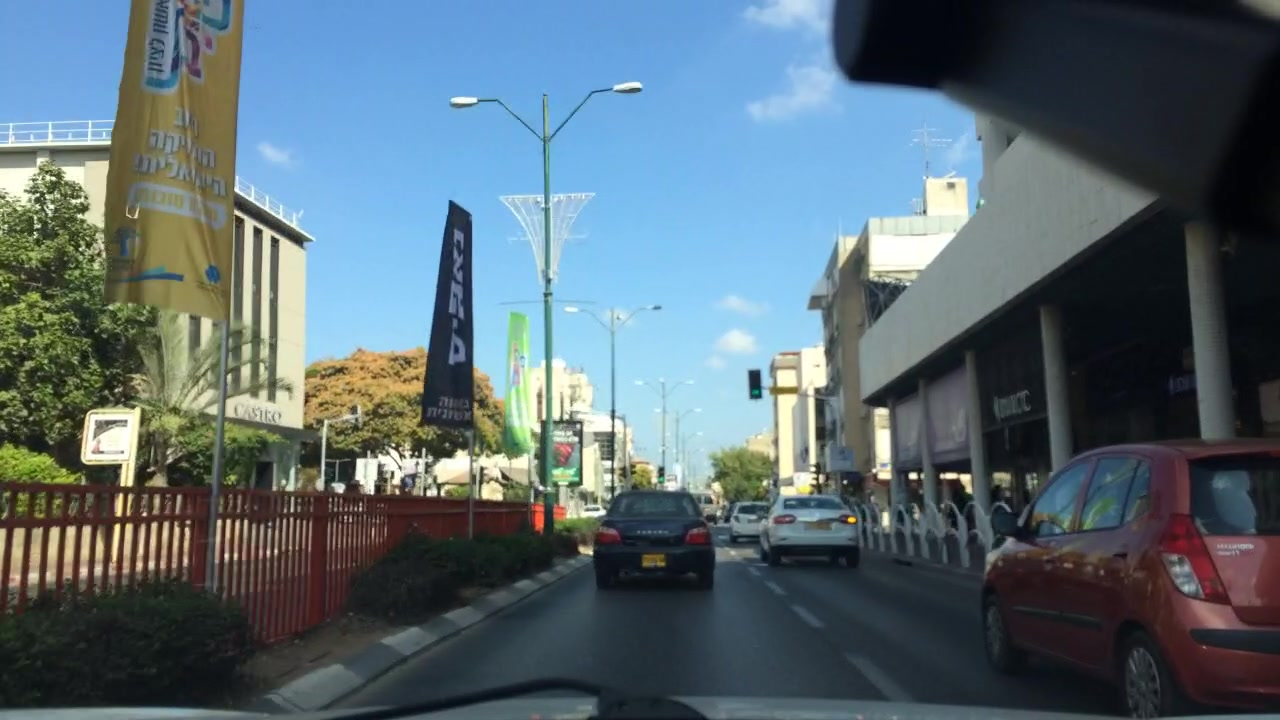licence: (638, 550, 669, 573)
